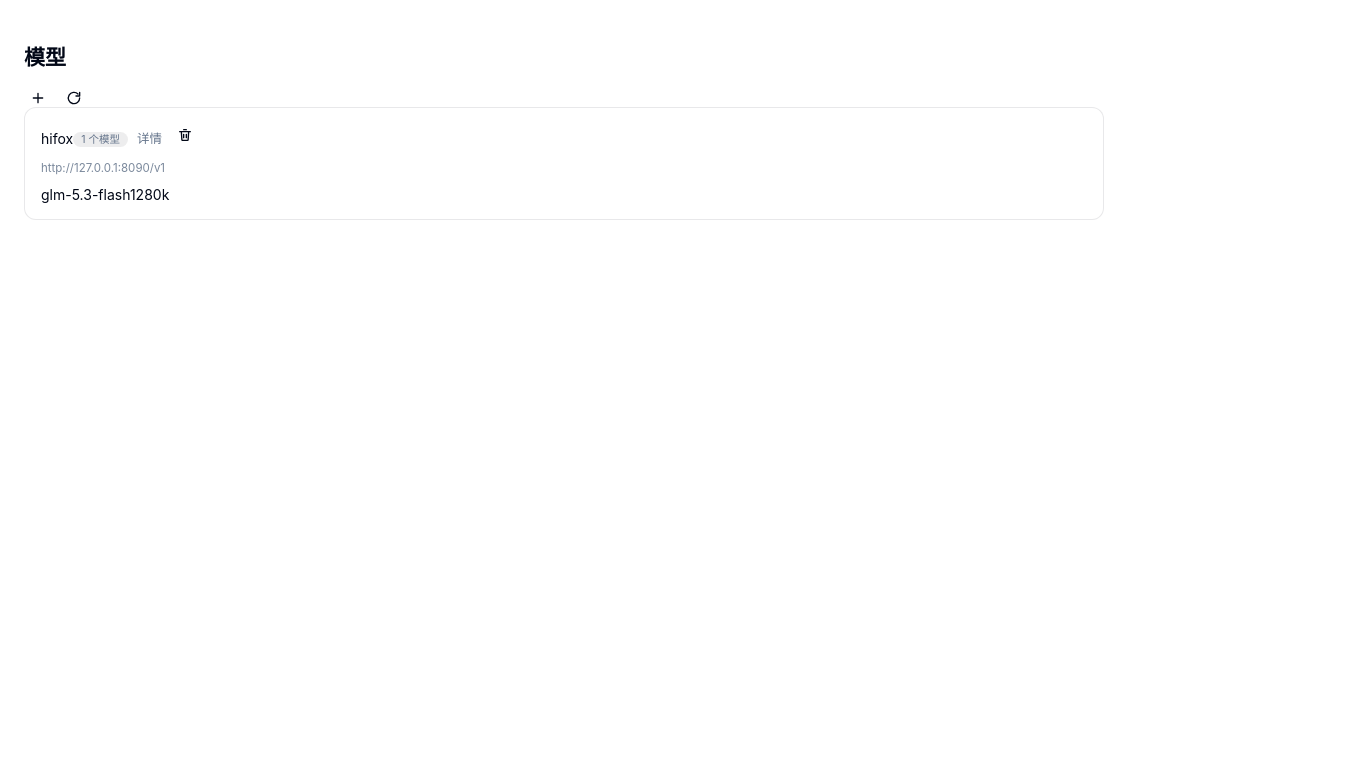
Test: ModelPage › keeps multiple pending rows alongside the saved models
Check: the text "hifox" is shown, box [41, 129, 73, 146]
Click the button "详情" at [149, 138], box [128, 124, 171, 152]
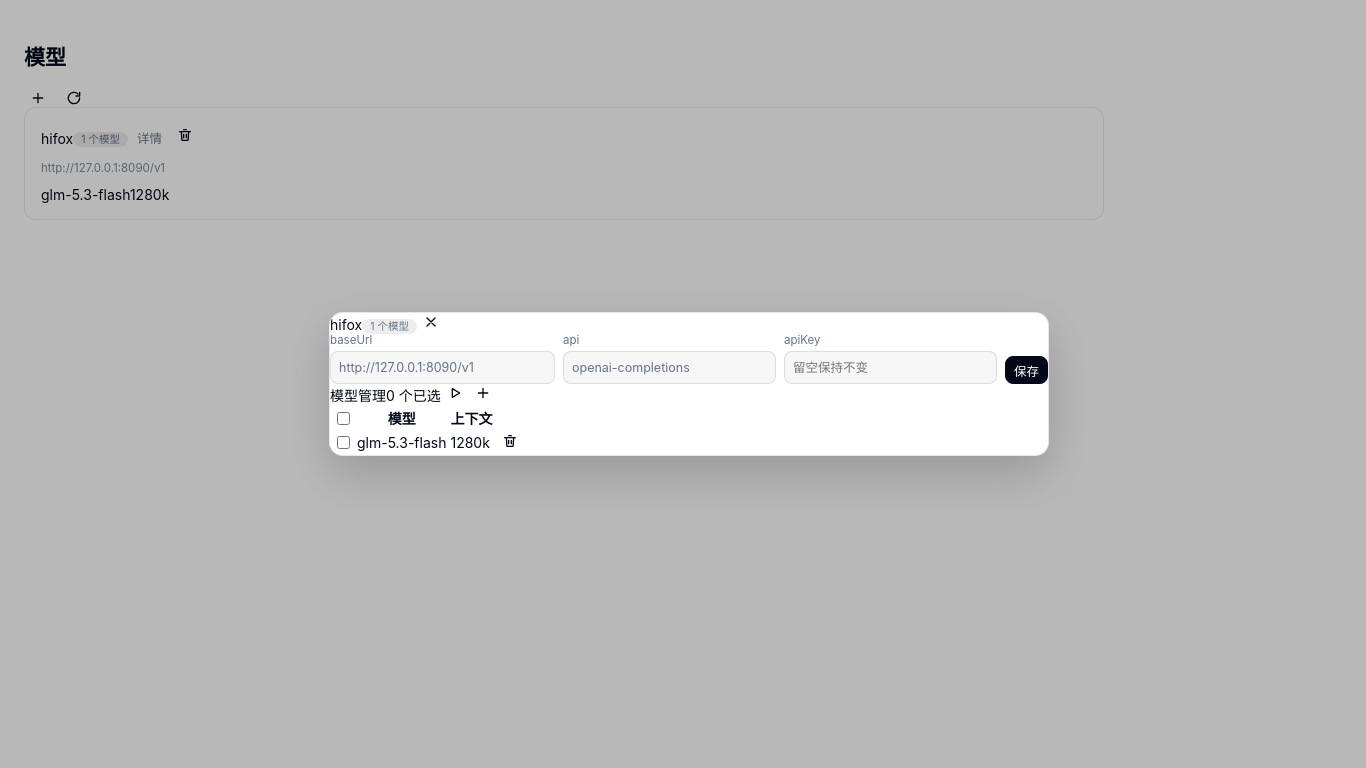
Click the button named "添加模型" at [483, 393], box [469, 384, 497, 402]
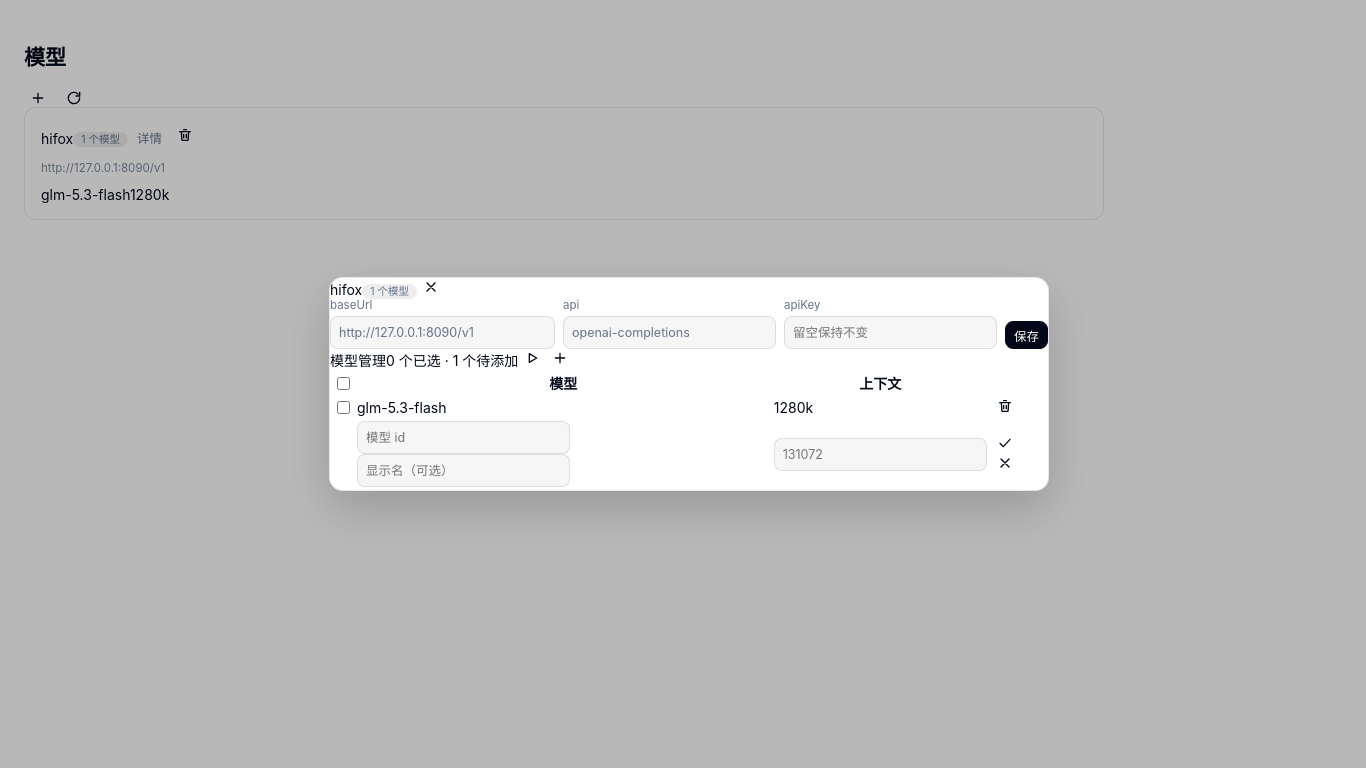
Click the button named "添加模型" at [560, 358], box [546, 349, 574, 367]
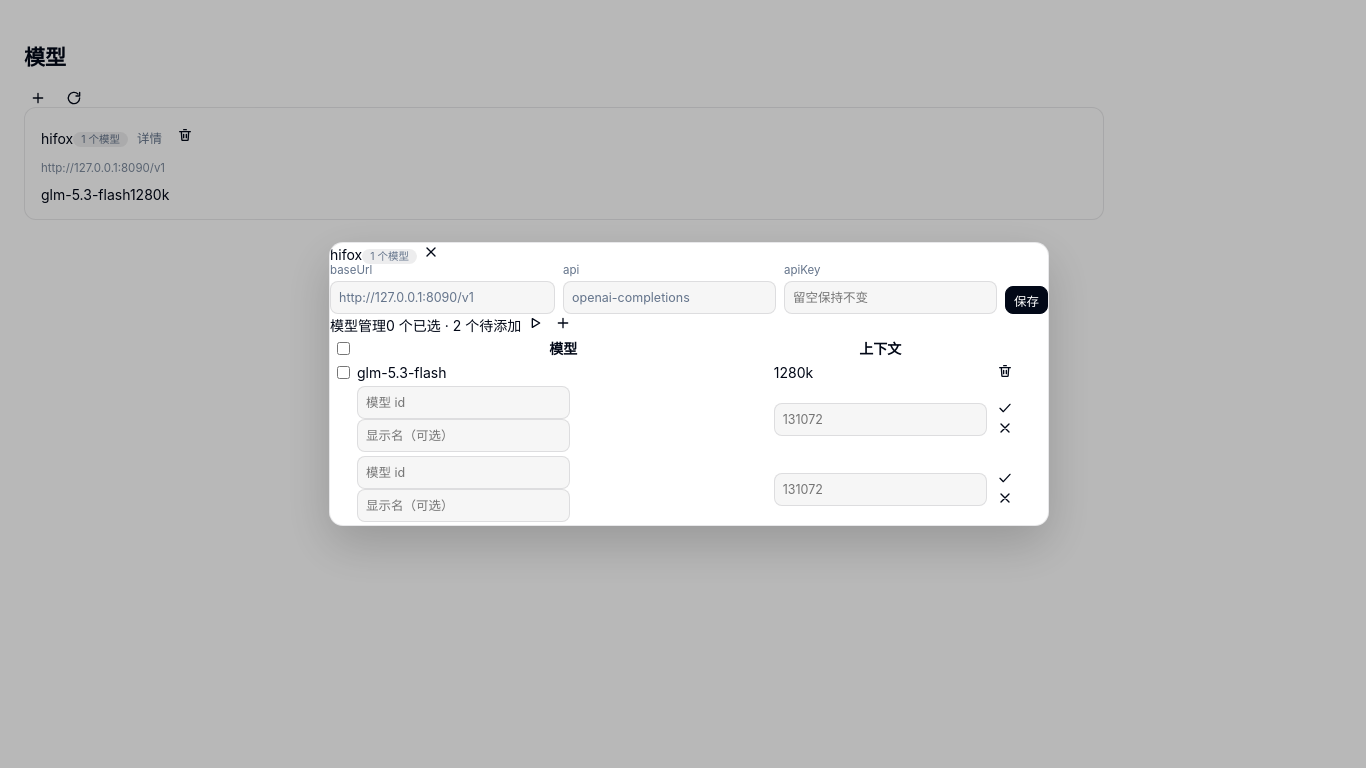
Check: the text "glm-5.3-flash" is shown, box [357, 364, 446, 380]
Check: the number of fields named "新模型 id" is 2
Type "first" into the field named "新模型 id" at [464, 402], box [357, 386, 570, 419]
Type "second" into the field named "新模型 id" at [464, 472], box [357, 456, 570, 489]
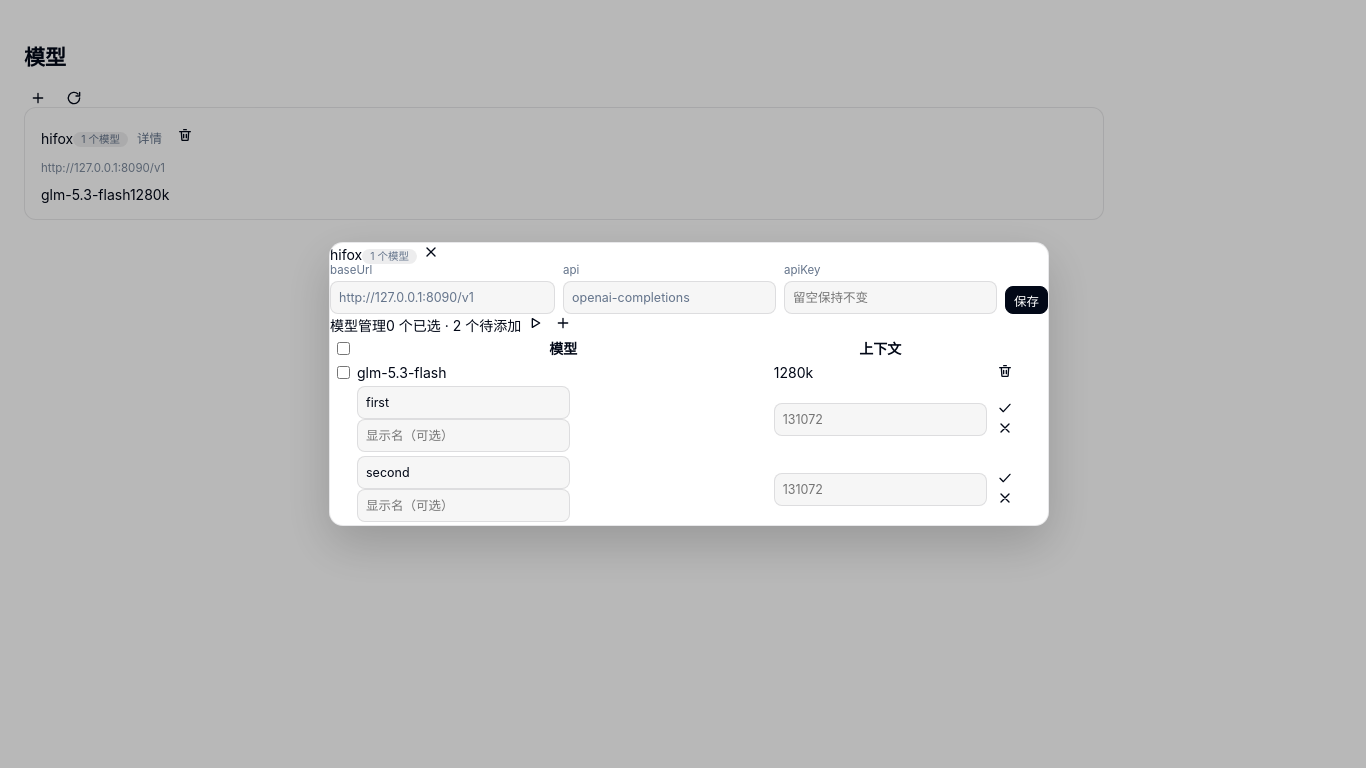
Click the 1st button named "保存新模型" at [1005, 408], box [991, 399, 1019, 417]
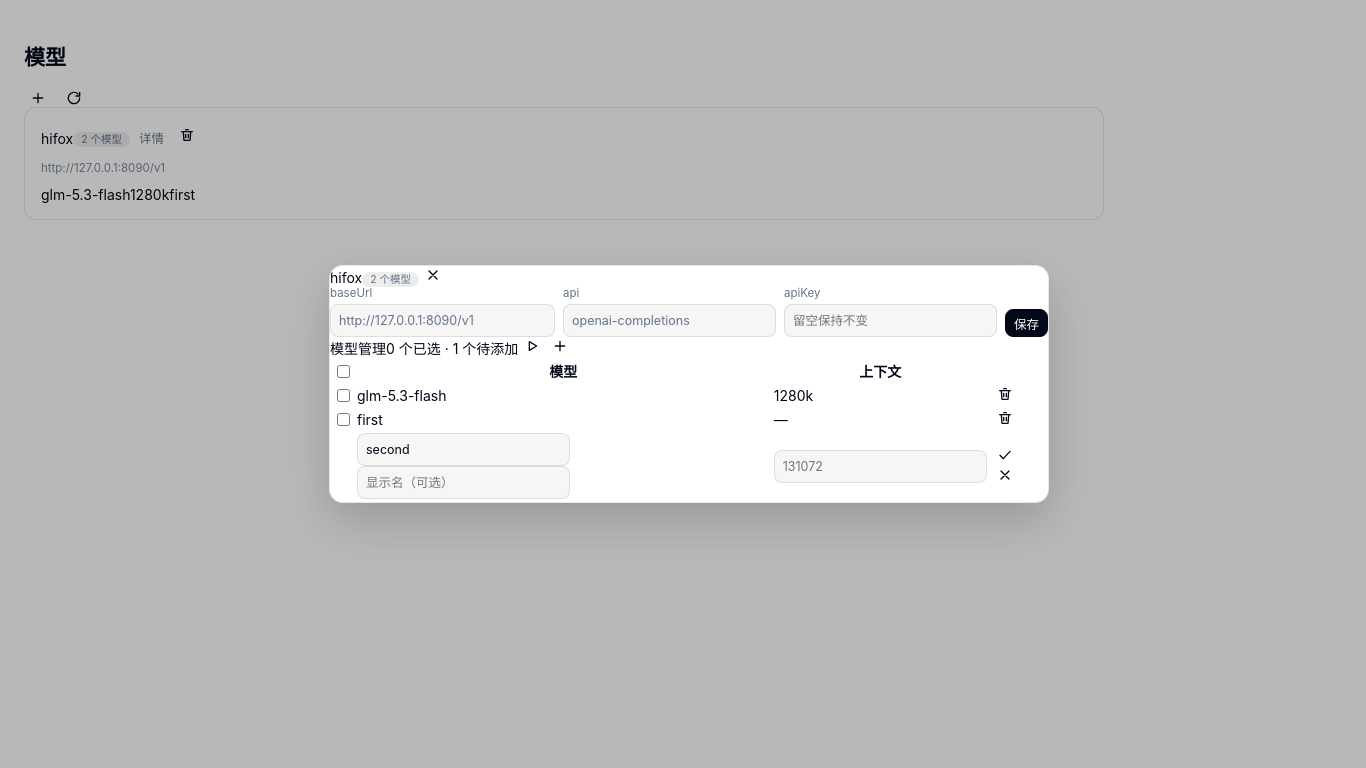
Check: the number of fields named "新模型 id" is 1, box [357, 433, 570, 466]
Check: the text "first" is shown, box [357, 410, 383, 428]
Click the button named "保存新模型" at [1005, 455], box [991, 446, 1019, 464]
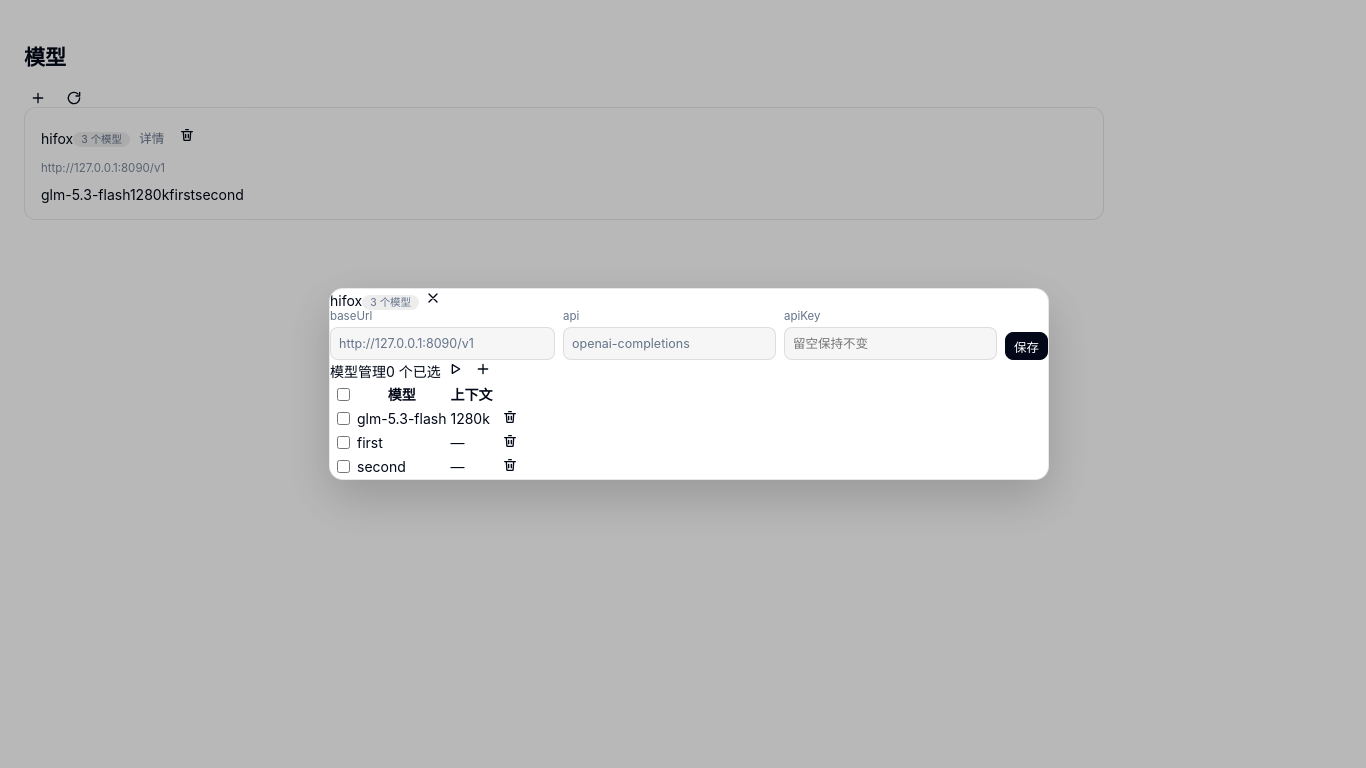
Check: the text "second" is shown, box [357, 458, 406, 474]
